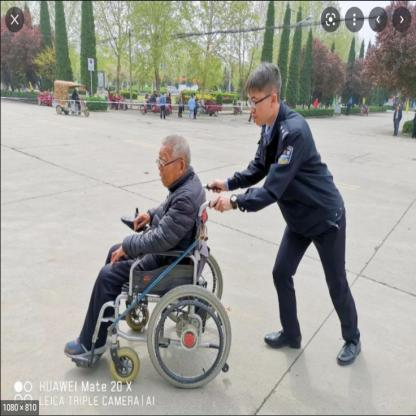wheelchair: (67, 135, 233, 398)
